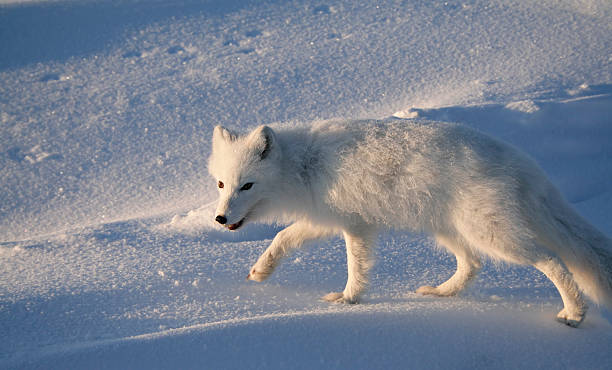arcticfox: (205, 151, 289, 246)
